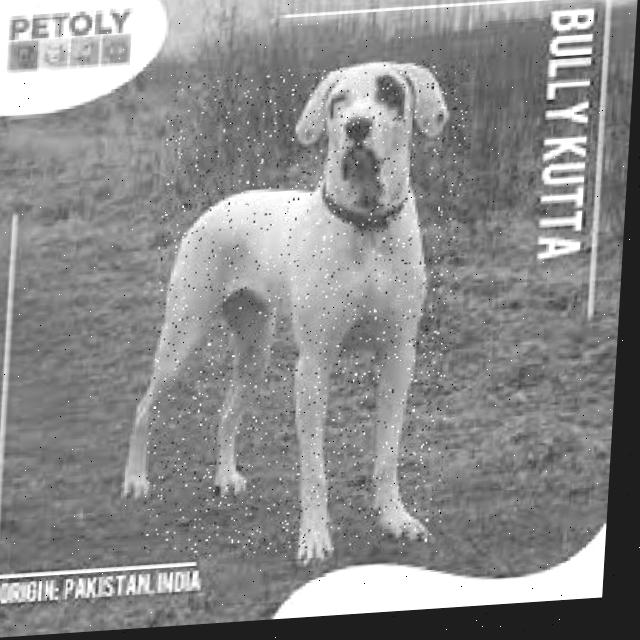Dog: (140, 58, 472, 564)
